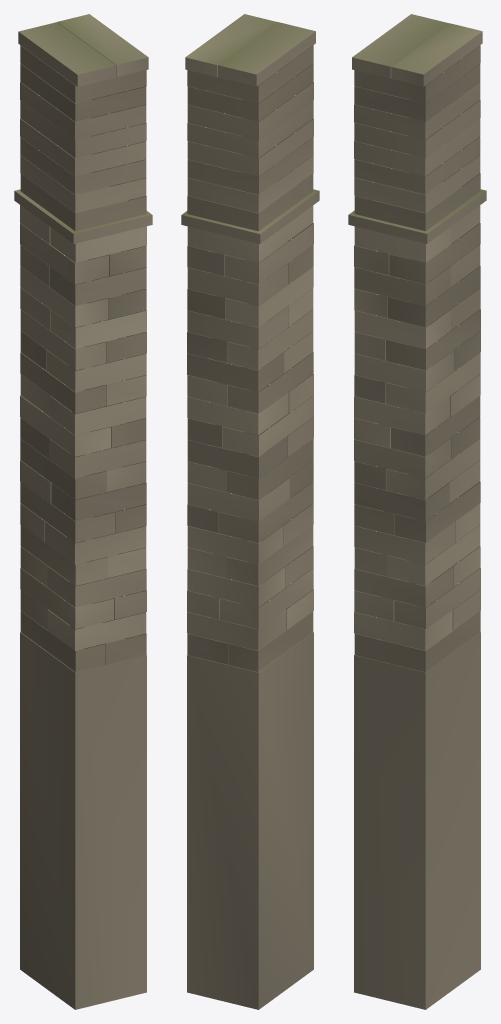
File: viaduct_pier_mid.glb
The picture shows the model from 3 angles, left to right: view 1: azimuth 30°, elevation 25°; view 2: azimuth 150°, elevation 25°; view 3: azimuth 330°, elevation 25°; orthographic projection.
Visible parts, largest first — view 1: viaduct_pier_mid; view 2: viaduct_pier_mid; view 3: viaduct_pier_mid.
Boxes of the visible parts, x1,y1,x2,y2 form: viaduct_pier_mid: (14, 14, 152, 1009); viaduct_pier_mid: (181, 14, 319, 1009); viaduct_pier_mid: (348, 14, 486, 1009).
Bounding box in the file's own units: 6.6 × 74.99 × 8.63.
